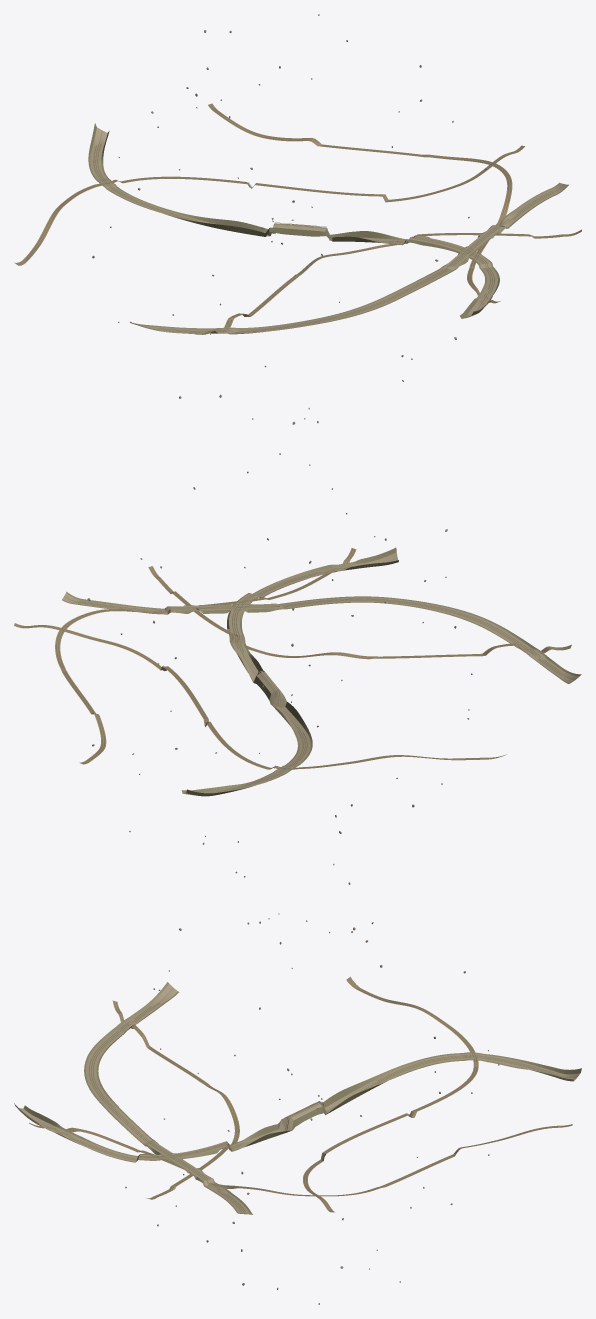
Rendered from roads_shield.glb.
The picture shows the model from 3 angles, top to bottom: view 1: azimuth 30°, elevation 25°; view 2: azimuth 150°, elevation 25°; view 3: azimuth 270°, elevation 25°; orthographic projection. The views are drawn at different scales.
Visible parts, largest first — view 1: shield_gravel, shield_trail, shield_shoulder, shield_trail_rut, shield_rut, shield_crown; view 2: shield_gravel, shield_trail, shield_shoulder, shield_trail_rut, shield_rut, shield_crown; view 3: shield_gravel, shield_shoulder, shield_trail, shield_trail_rut, shield_rut, shield_crown.
Boxes of the visible parts, x1=… form: shield_gravel: x1=90, y1=127, x2=567, y2=333; shield_trail: x1=14, y1=103, x2=581, y2=334; shield_shoulder: x1=88, y1=123, x2=568, y2=334; shield_trail_rut: x1=25, y1=104, x2=581, y2=334; shield_rut: x1=93, y1=143, x2=553, y2=332; shield_crown: x1=95, y1=130, x2=564, y2=332; shield_gravel: x1=62, y1=552, x2=579, y2=795; shield_trail: x1=14, y1=548, x2=571, y2=769; shield_shoulder: x1=62, y1=547, x2=581, y2=796; shield_trail_rut: x1=14, y1=548, x2=571, y2=769; shield_rut: x1=77, y1=566, x2=561, y2=793; shield_crown: x1=64, y1=558, x2=574, y2=793; shield_gravel: x1=19, y1=984, x2=580, y2=1214; shield_shoulder: x1=14, y1=982, x2=581, y2=1214; shield_trail: x1=29, y1=976, x2=572, y2=1212; shield_trail_rut: x1=29, y1=989, x2=572, y2=1211; shield_rut: x1=47, y1=1003, x2=558, y2=1214; shield_crown: x1=45, y1=987, x2=576, y2=1213.
Bounding box in the file's own units: 468 × 356 × 474.
